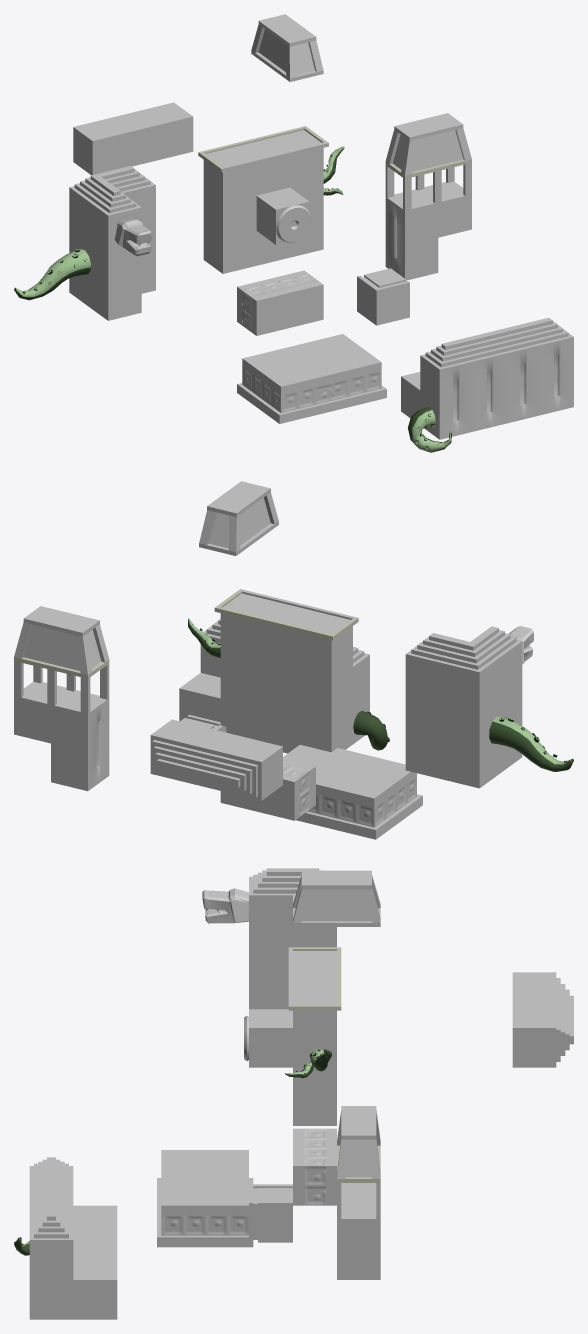
File: env.fbx
3 views of the same model, one above another, from view 1: azimuth 30°, elevation 25°; view 2: azimuth 150°, elevation 25°; view 3: azimuth 270°, elevation 25° (orthographic). The views are drawn at different scales.
Parts seen in each view (by area): view 1: env, octo_arms; view 2: env, octo_arms; view 3: env, octo_arms.
Part boxes in pixels (x1,y1,x2,y2): env: (69, 14, 573, 439); octo_arms: (14, 146, 451, 452); env: (14, 481, 534, 839); octo_arms: (188, 618, 573, 771); env: (29, 868, 573, 1319); octo_arms: (14, 1049, 331, 1255).
Size of the model in its own units: 141 by 93.22 by 128.
